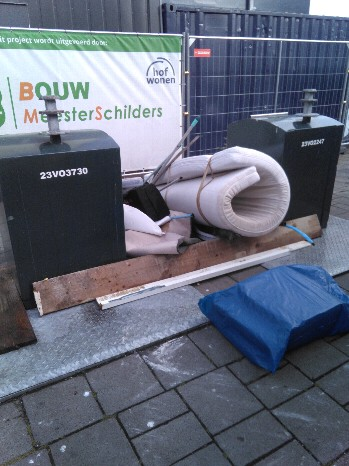Container: (8, 129, 139, 277), (250, 109, 349, 213)
Rest: (27, 219, 309, 295), (159, 143, 279, 237), (248, 254, 335, 357), (98, 167, 182, 266)
